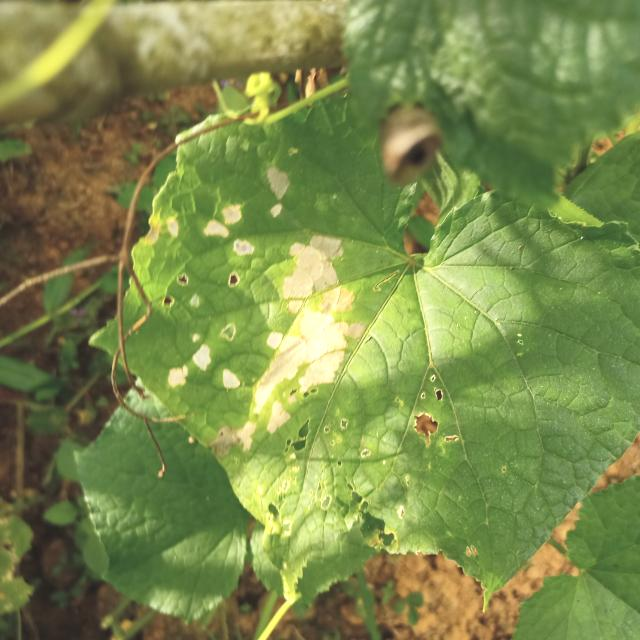disease_cucumber: (148, 160, 358, 460)
